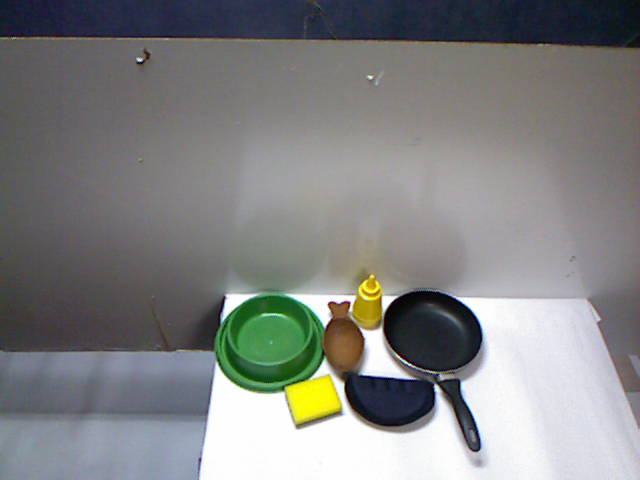confort: (362, 250, 481, 393)
estuche: (274, 300, 367, 359)
jugoind: (255, 319, 289, 387)
mantequilla: (259, 375, 322, 423)
pelota: (318, 354, 364, 403)
pepino: (213, 301, 265, 432)
